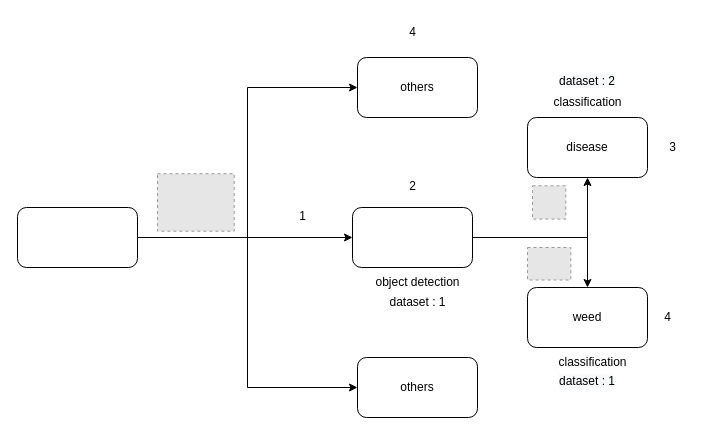
This 705x435 diagram has some shape labels left out. Grey dashed boxes stand in for pictures. The shapes that lost their labels are listed below. From the top down, each one's centre as x and y in pixels, then its label:
At [77,237]: "farm".
At [412,237]: "sugar beet".
